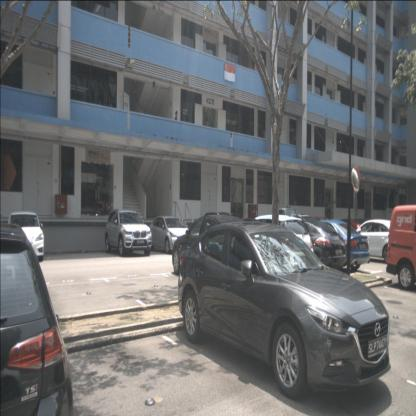human-pedestrian-adult: (174, 110, 179, 138)
vehicle-car: (178, 222, 391, 400), (0, 223, 74, 416), (172, 214, 261, 281), (231, 214, 314, 276), (268, 218, 346, 275), (291, 219, 370, 271), (340, 219, 404, 264), (386, 205, 415, 291), (104, 208, 152, 257), (7, 211, 44, 262), (149, 216, 192, 254), (328, 218, 369, 242)
